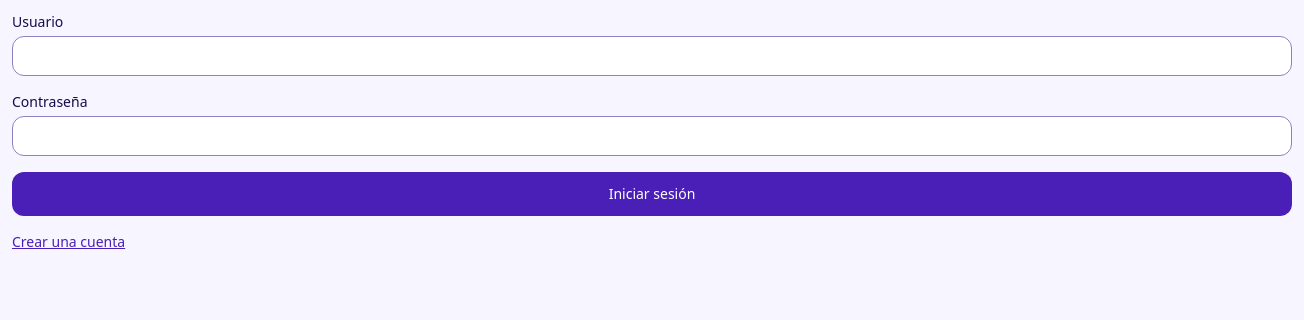
Test: LoginForm › renders the server error as an accessible alert
Required fields must be valid for the submit to reach the action.
Type "ada_lovelace" into the field labelled "Usuario".
click(652, 56); type("ada_lovelace")  # box [12,36,1292,76]
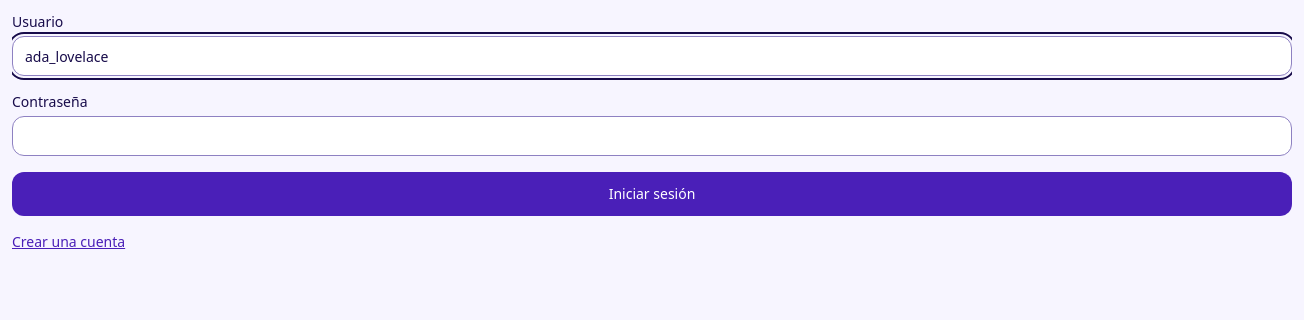
Type "supersecret1" into the password field labelled "Contraseña".
click(652, 136); type("supersecret1")  # box [12,116,1292,156]
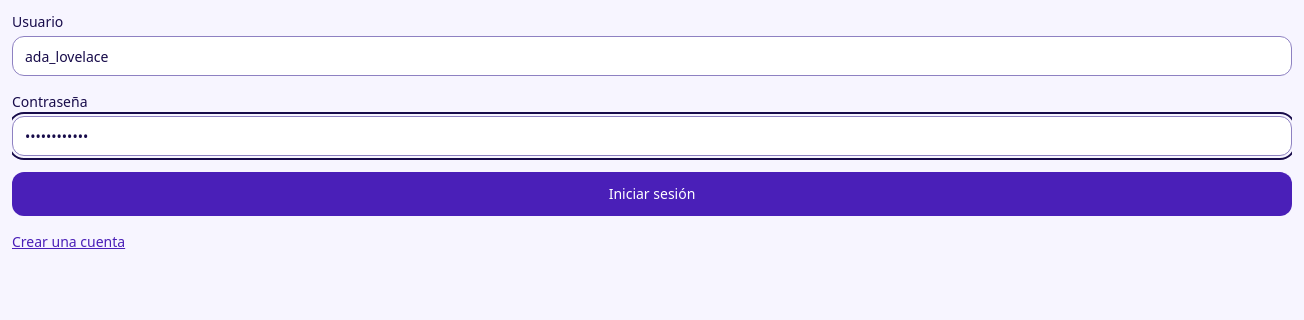
Click the button "Iniciar sesión".
click(652, 194)  # box [12,172,1292,216]
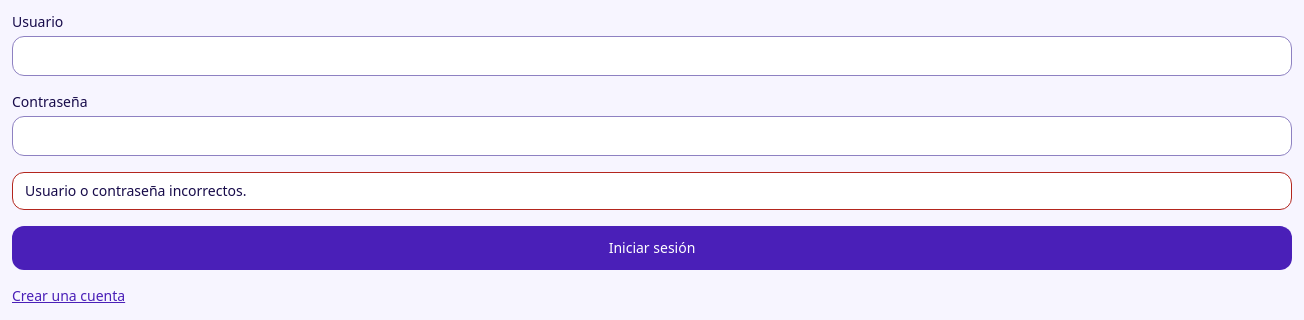
Expected: the message reads "Usuario o contraseña incorrectos.", [25,181,246,200]
